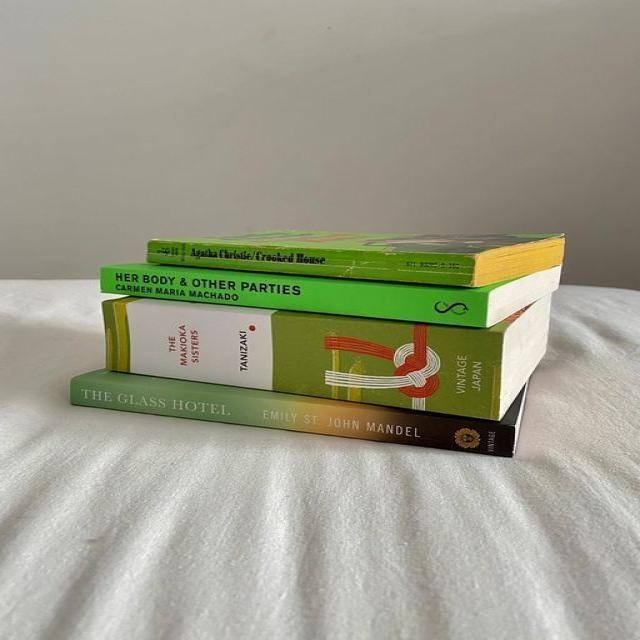book: (101, 302, 504, 420), (71, 378, 516, 457), (100, 267, 487, 328), (146, 239, 477, 284)
